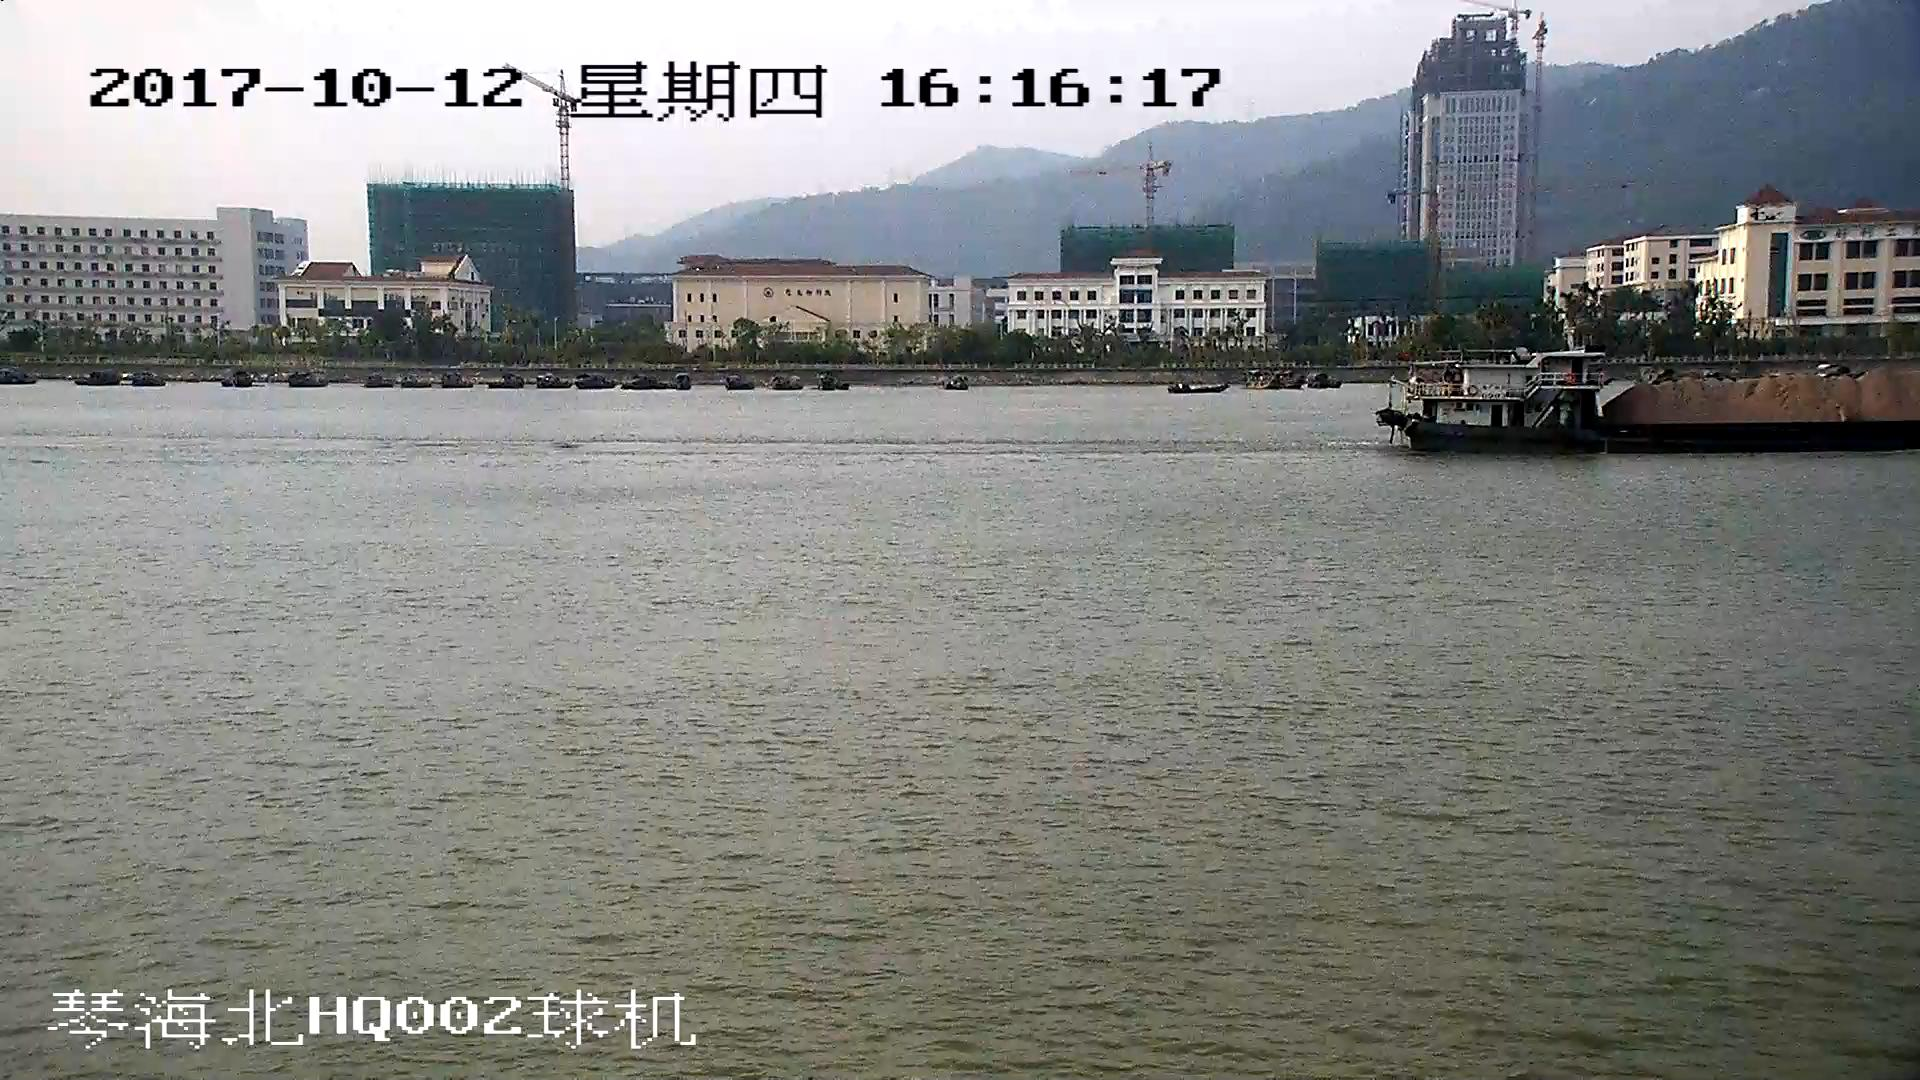ore carrier: (1383, 360, 1920, 453)
